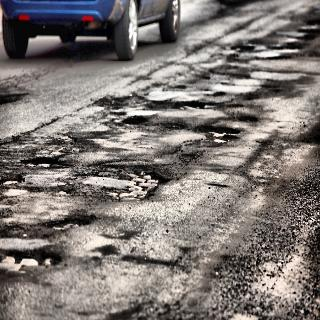pothole: (4, 146, 174, 288), (169, 88, 264, 153)
